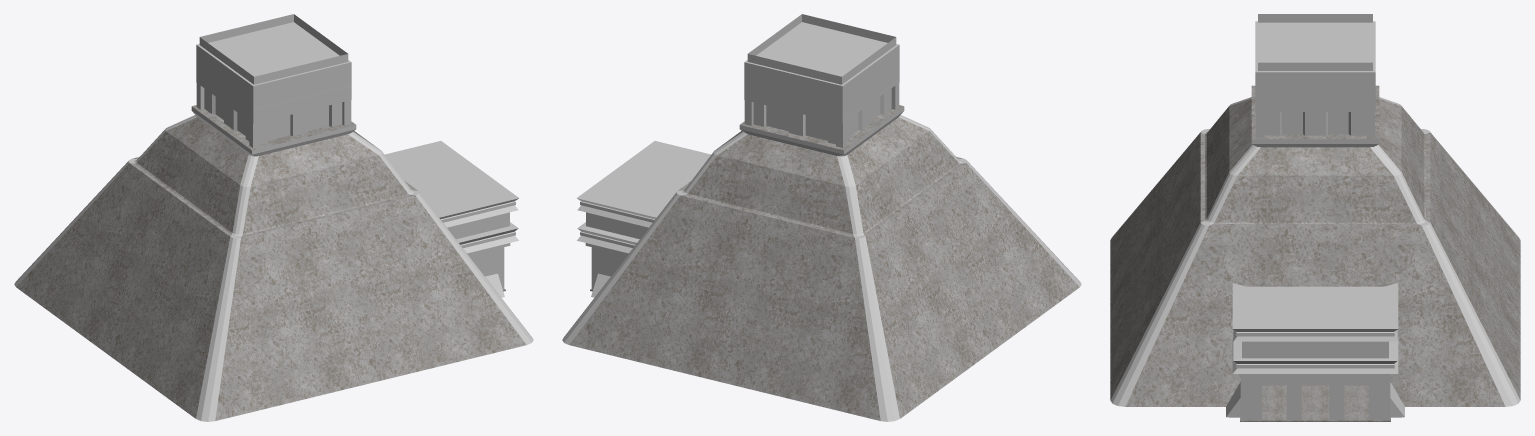
File: Piramide FBX.fbx
The picture shows the model from 3 angles, left to right: view 1: azimuth 30°, elevation 25°; view 2: azimuth 150°, elevation 25°; view 3: azimuth 270°, elevation 25°; orthographic projection. The views are drawn at different scales.
Parts seen in each view (by area): view 1: pCube20, pCube16, pCube3, pCube18, pCube17, pCube13; view 2: pCube20, pCube16, pCube3, pCube18, pCube17, pCube13; view 3: pCube20, pCube3, pCube16, pCube22, pCube18, pCube13, pCube17, pCube15, pCube10, pCube9, pCube8.
Boxes of the visible parts, x1,y1,x2,y2 form: pCube20: (14,105,533,421); pCube16: (196,22,351,123); pCube3: (384,141,518,253); pCube18: (196,83,351,147); pCube17: (199,14,348,84); pCube13: (469,247,504,289); pCube20: (562,105,1081,421); pCube16: (744,22,899,123); pCube3: (577,141,711,253); pCube18: (744,83,899,147); pCube17: (747,14,896,84); pCube13: (591,247,626,289); pCube20: (1110,85,1520,406); pCube3: (1232,283,1398,373); pCube16: (1255,21,1375,111); pCube22: (1240,385,1390,421); pCube18: (1256,112,1374,137); pCube13: (1240,377,1390,419); pCube17: (1258,14,1372,70); pCube15: (1226,382,1404,417); pCube10: (1329,377,1344,419); pCube9: (1286,377,1301,419); pCube8: (1240,374,1390,377).
Size of the model in its own units: 22.9 by 15.63 by 20.56.
